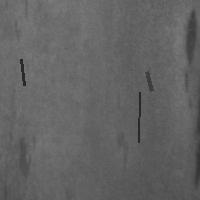inclusion: (176, 6, 199, 110), (11, 132, 38, 182), (113, 130, 135, 168), (10, 17, 27, 44), (136, 90, 141, 144), (19, 57, 26, 87), (144, 69, 153, 92)
